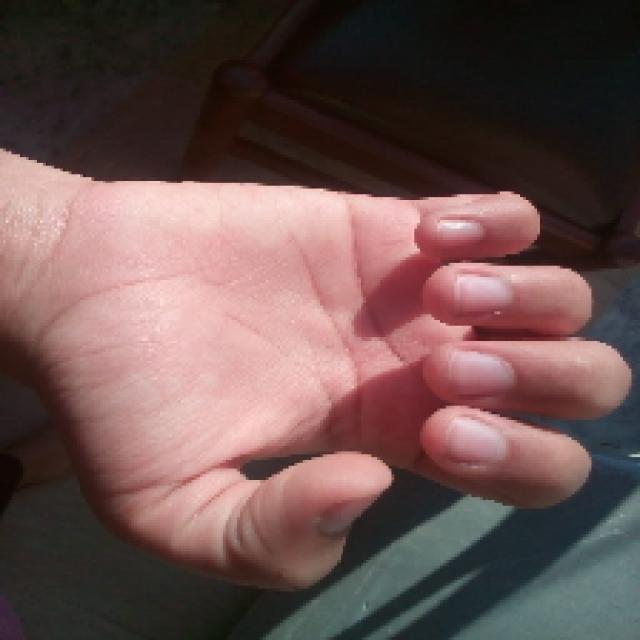Nail: (448, 351, 515, 395), (445, 416, 506, 462), (454, 274, 512, 314), (318, 498, 370, 532), (436, 219, 484, 248)
